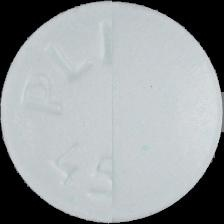53808-0747: (0, 0, 224, 224)
